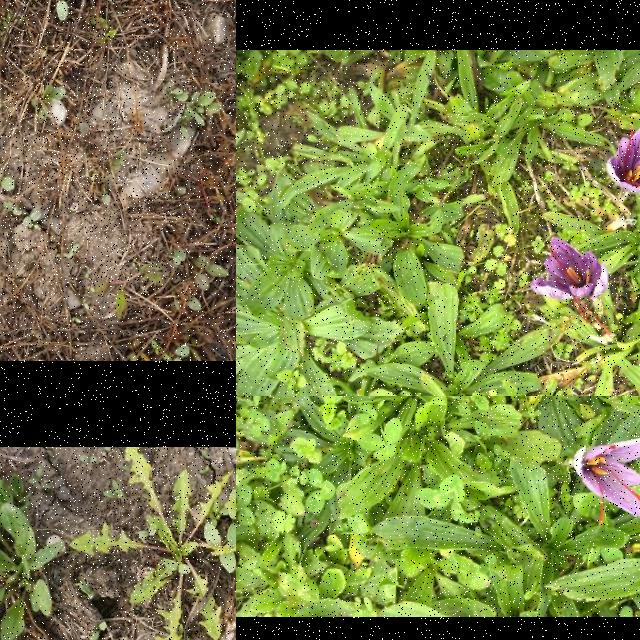flower: (531, 237, 611, 336), (573, 436, 640, 523), (605, 121, 640, 196)
